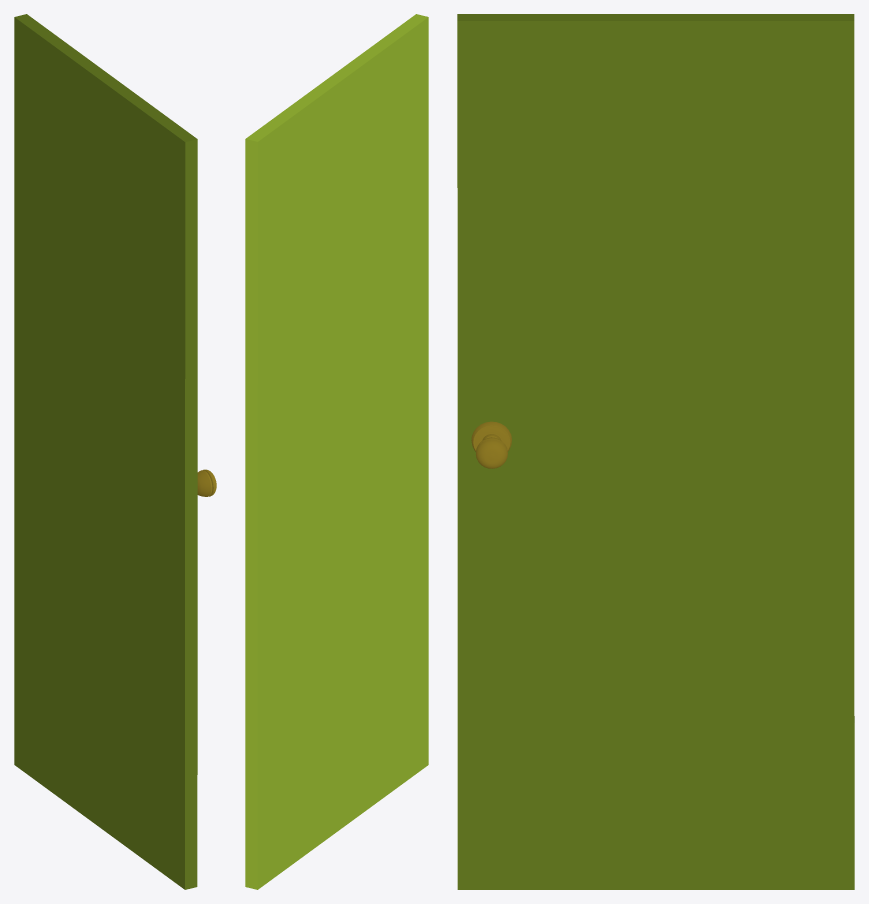
The model's file is Door2_3ce32ec8.obj.
The picture shows the model from 3 angles, left to right: view 1: azimuth 30°, elevation 25°; view 2: azimuth 150°, elevation 25°; view 3: azimuth 270°, elevation 25°; orthographic projection. The views are drawn at different scales.
Visible parts, largest first — view 1: Door2_3ce32ec8; view 2: Door2_3ce32ec8; view 3: Door2_3ce32ec8.
Boxes of the visible parts, left/top/right/bottom form: Door2_3ce32ec8: left=14, top=14, right=216, bottom=889; Door2_3ce32ec8: left=245, top=14, right=428, bottom=889; Door2_3ce32ec8: left=457, top=14, right=854, bottom=889.
Bounding box in the file's own units: 0.1207 × 2.02 × 0.8367.
